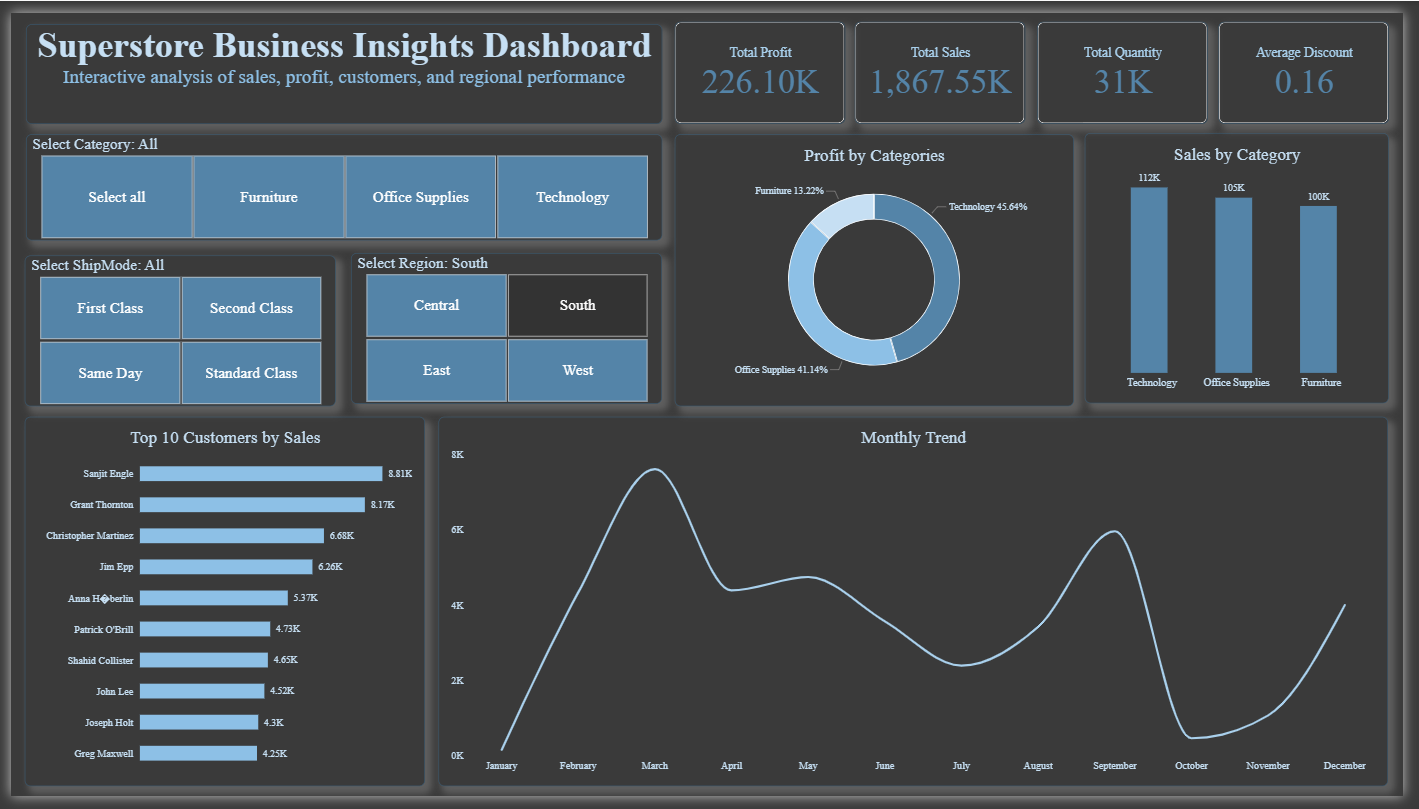

What the dashboard file says about the page in this screenshot:
{"tool":"powerbi","page":{"name":"Dashboard","canvas":[1920,1080],"ordinal":0},"visuals":[{"type":"cardVisual","fields":{"Data":["Avg(Sample_Superstore.Discount)"]},"box":[1665,12.7,235.1,141.2],"z":0,"group":"g1"},{"type":"columnChart","title":"Sales by Category","fields":{"Category":["Sample_Superstore.Category"],"Y":["Sum(Sample_Superstore.Sales)"]},"box":[1480.8,165.4,419.2,373.1],"z":0},{"type":"cardVisual","fields":{"Data":["Sum(Sample_Superstore.Quantity)"]},"box":[1416.5,12.7,235.1,141.2],"z":1000,"group":"g1"},{"type":"cardVisual","fields":{"Data":["Sum(Sample_Superstore.Sales)"]},"box":[1164.2,12.7,235.1,141.2],"z":2000,"group":"g1"},{"type":"lineChart","title":"Monthly Trend","fields":{"Category":["Sample_Superstore.Order Date.Variation.Date Hierarchy.Month"],"Y":["Sum(Sample_Superstore.Profit)"]},"box":[590.4,557.7,1309.6,509.6],"z":2000},{"type":"cardVisual","fields":{"Data":["Sum(Sample_Superstore.Profit)"]},"box":[915.7,12.7,235.1,141.2],"z":3000,"group":"g1"},{"type":"donutChart","title":"Profit by Categories","fields":{"Category":["Sample_Superstore.Category"],"Y":["Sum(Sample_Superstore.Profit)"]},"box":[915.4,167.3,550,375],"z":3000},{"type":"clusteredBarChart","title":"Top 10 Customers by Sales ","fields":{"Category":["Sample_Superstore.Customer Name"],"Y":["Sum(Sample_Superstore.Sales)"]},"box":[19.2,557.7,551.9,509.6],"z":4000},{"type":"slicer","fields":{"Values":["Sample_Superstore.Region"]},"box":[468.7,331.2,428.9,208.1],"z":5000},{"type":"slicer","fields":{"Values":["Sample_Superstore.Category"]},"box":[19.9,166.5,877.7,146.6],"z":6000},{"type":"slicer","fields":{"Values":["Sample_Superstore.Ship Mode"]},"box":[19.2,334.6,428.8,207.7],"z":7000},{"type":"group","id":"g1","title":"Group 1","box":[915.7,12.7,984.5,141.2],"z":8000},{"type":"textbox","title":"Superstore Business Insights Dashboard","box":[19.9,16.3,877.7,137.5],"z":9000}]}

Visuals, with their boxes in screenshot pixels (x1, y1, x2, y2), scaled from the page's 1920x1080 canvas onto the 1419x809 screenshot:
cardVisual - Avg(Sample_Superstore.Discount): locate(1231, 10, 1404, 115)
"Sales by Category" columnChart: locate(1094, 124, 1404, 403)
cardVisual - Sum(Sample_Superstore.Quantity): locate(1047, 10, 1221, 115)
cardVisual - Sum(Sample_Superstore.Sales): locate(860, 10, 1034, 115)
"Monthly Trend" lineChart: locate(436, 418, 1404, 799)
cardVisual - Sum(Sample_Superstore.Profit): locate(677, 10, 851, 115)
"Profit by Categories" donutChart: locate(677, 125, 1083, 406)
"Top 10 Customers by Sales " clusteredBarChart: locate(14, 418, 422, 799)
slicer - Sample_Superstore.Region: locate(346, 248, 663, 404)
slicer - Sample_Superstore.Category: locate(15, 125, 663, 235)
slicer - Sample_Superstore.Ship Mode: locate(14, 251, 331, 406)
"Group 1" group: locate(677, 10, 1404, 115)
"Superstore Business Insights Dashboard" textbox: locate(15, 12, 663, 115)
